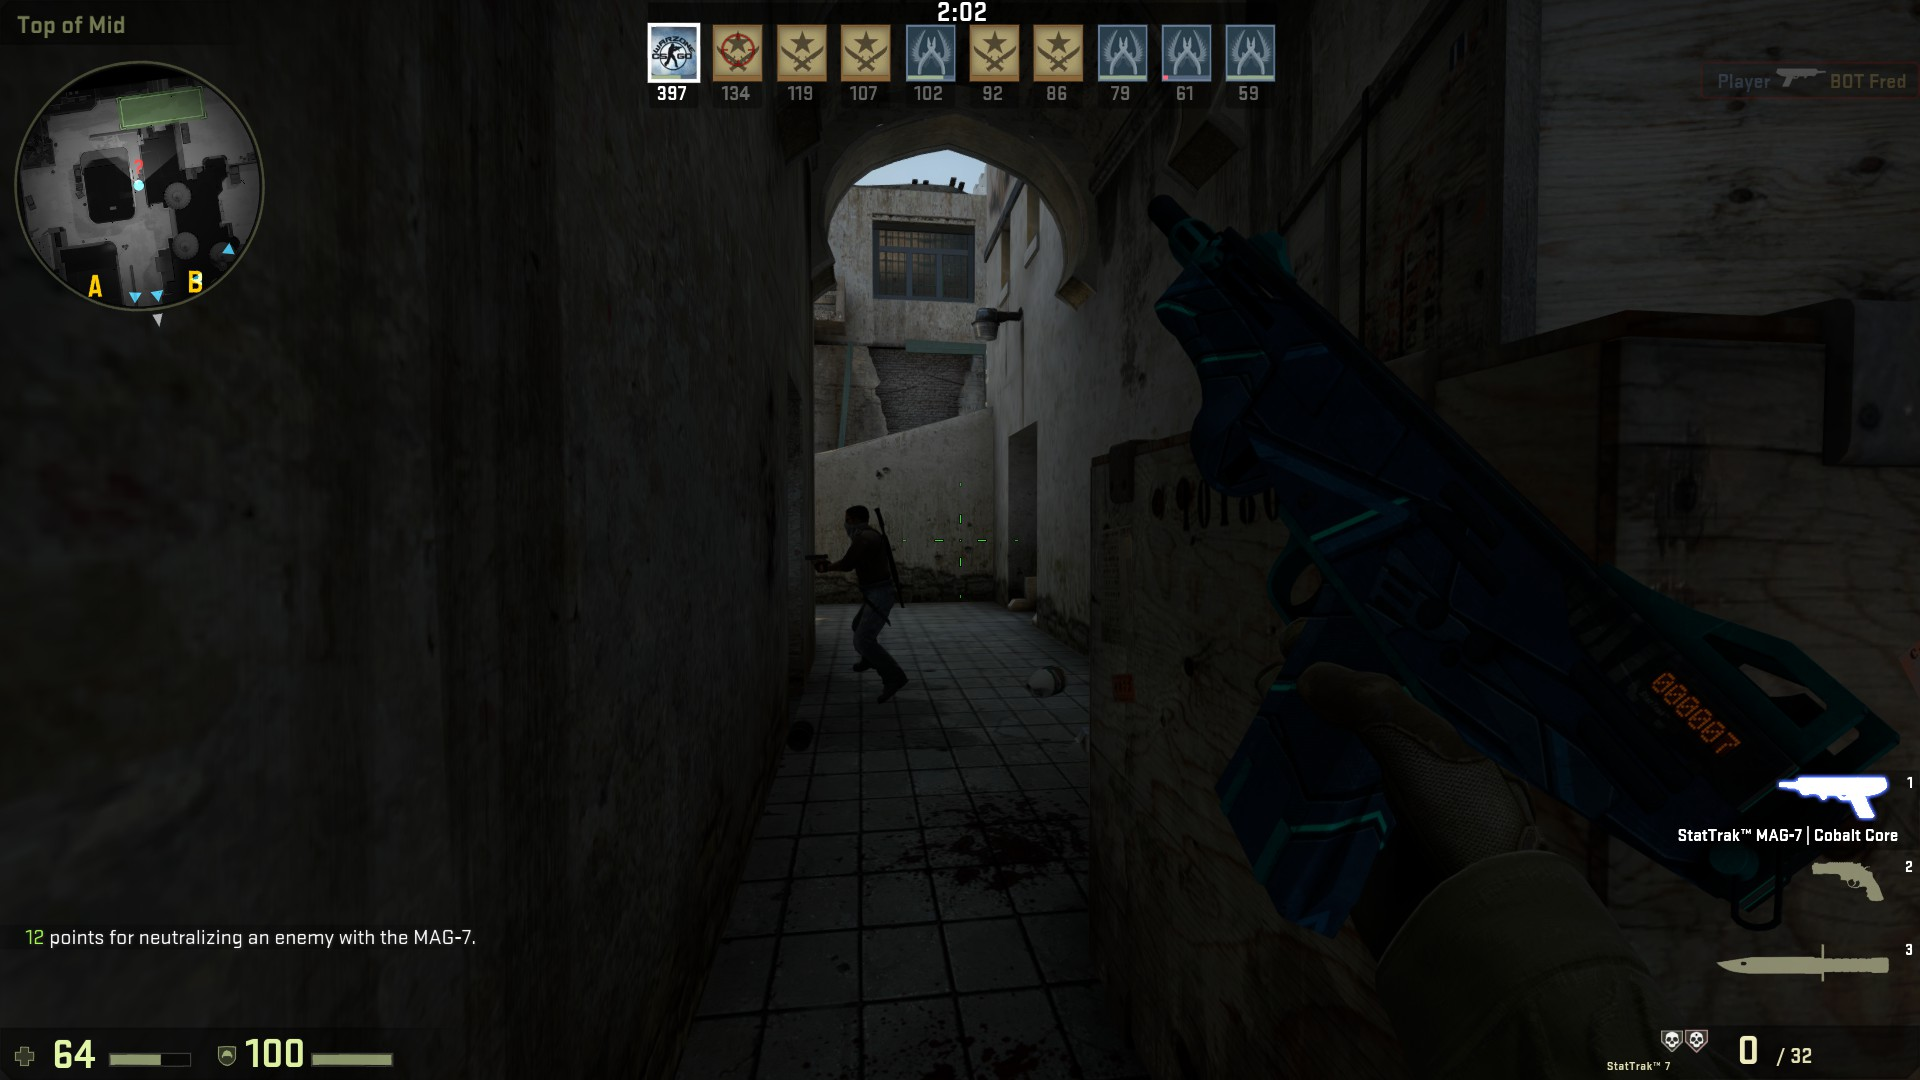t: (835, 501, 905, 702)
th: (837, 500, 880, 537)
